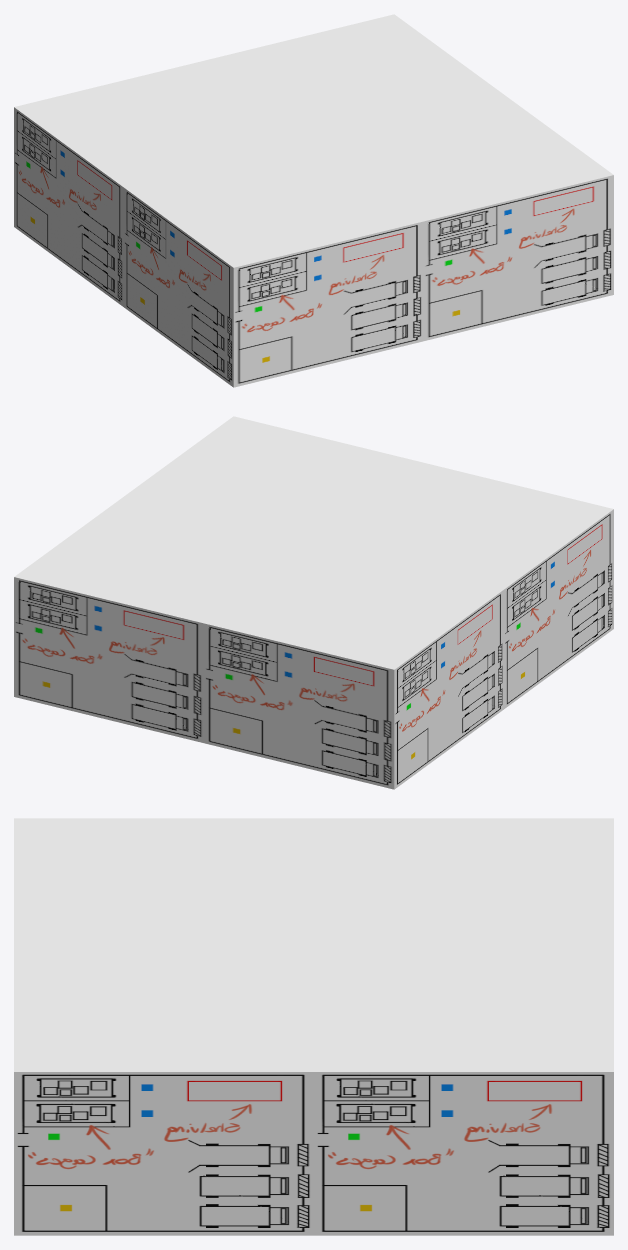
File: lvl3_Room.fbx
The picture shows the model from 3 angles, top to bottom: view 1: azimuth 30°, elevation 25°; view 2: azimuth 150°, elevation 25°; view 3: azimuth 270°, elevation 25°; orthographic projection. The views are drawn at different scales.
Parts seen in each view (by area): view 1: lvl3_Room; view 2: lvl3_Room; view 3: lvl3_Room.
Part boxes in pixels (<box>): lvl3_Room: <box>14,14,613,387</box>; lvl3_Room: <box>14,416,613,789</box>; lvl3_Room: <box>14,818,613,1235</box>.
Bounding box in the file's own units: 44.2 × 13.31 × 44.2.
Materials: 1 (1 with a texture image).
